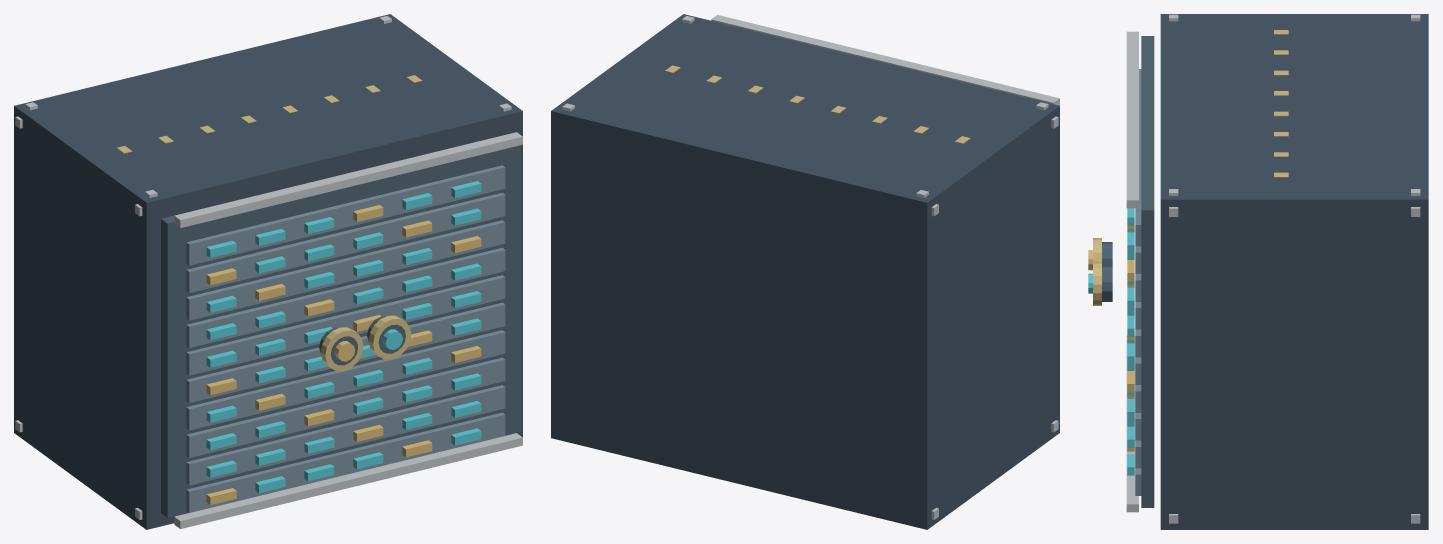
The model's file is 37_L81_DeterministicMissionTaskScheduler.glb.
3 views of the same model, side by side, from view 1: azimuth 30°, elevation 25°; view 2: azimuth 150°, elevation 25°; view 3: azimuth 270°, elevation 25° (orthographic).
Parts seen in each view (by area): view 1: DeterministicMissionTaskScheduler_Node_0000, DeterministicMissionTaskScheduler_Node_0009, DeterministicMissionTaskScheduler_Node_0024, DeterministicMissionTaskScheduler_Node_0066, DeterministicMissionTaskScheduler_Node_0052, DeterministicMissionTaskScheduler_Node_0010, DeterministicMissionTaskScheduler_Node_0017, DeterministicMissionTaskScheduler_Node_0059, DeterministicMissionTaskScheduler_Node_0073, DeterministicMissionTaskScheduler_Node_0031, DeterministicMissionTaskScheduler_Node_0045, DeterministicMissionTaskScheduler_Node_0081 (+4 smaller); view 2: DeterministicMissionTaskScheduler_Node_0000, DeterministicMissionTaskScheduler_Node_0081; view 3: DeterministicMissionTaskScheduler_Node_0000, DeterministicMissionTaskScheduler_Node_0009, DeterministicMissionTaskScheduler_Node_0081, DeterministicMissionTaskScheduler_Node_0080, DeterministicMissionTaskScheduler_Node_0073, DeterministicMissionTaskScheduler_Node_0093, DeterministicMissionTaskScheduler_Node_0094.
Boxes of the visible parts, bbox=[...] form: DeterministicMissionTaskScheduler_Node_0000: bbox=[14, 14, 522, 529]; DeterministicMissionTaskScheduler_Node_0009: bbox=[161, 145, 521, 517]; DeterministicMissionTaskScheduler_Node_0024: bbox=[186, 357, 505, 457]; DeterministicMissionTaskScheduler_Node_0066: bbox=[186, 192, 505, 292]; DeterministicMissionTaskScheduler_Node_0052: bbox=[186, 247, 505, 347]; DeterministicMissionTaskScheduler_Node_0010: bbox=[186, 412, 505, 512]; DeterministicMissionTaskScheduler_Node_0017: bbox=[186, 385, 505, 485]; DeterministicMissionTaskScheduler_Node_0059: bbox=[186, 220, 505, 320]; DeterministicMissionTaskScheduler_Node_0073: bbox=[186, 165, 505, 265]; DeterministicMissionTaskScheduler_Node_0031: bbox=[186, 330, 505, 430]; DeterministicMissionTaskScheduler_Node_0045: bbox=[186, 275, 505, 375]; DeterministicMissionTaskScheduler_Node_0081: bbox=[174, 132, 522, 227]; DeterministicMissionTaskScheduler_Node_0000: bbox=[551, 14, 1059, 529]; DeterministicMissionTaskScheduler_Node_0081: bbox=[711, 15, 1059, 105]; DeterministicMissionTaskScheduler_Node_0000: bbox=[1160, 14, 1428, 529]; DeterministicMissionTaskScheduler_Node_0009: bbox=[1141, 36, 1154, 507]; DeterministicMissionTaskScheduler_Node_0081: bbox=[1126, 31, 1138, 208]; DeterministicMissionTaskScheduler_Node_0080: bbox=[1126, 336, 1138, 512]; DeterministicMissionTaskScheduler_Node_0073: bbox=[1135, 69, 1141, 246]; DeterministicMissionTaskScheduler_Node_0093: bbox=[1102, 265, 1112, 301]; DeterministicMissionTaskScheduler_Node_0094: bbox=[1093, 261, 1101, 305].
Bounding box in the file's own units: 1.2 × 0.998 × 0.9145.
